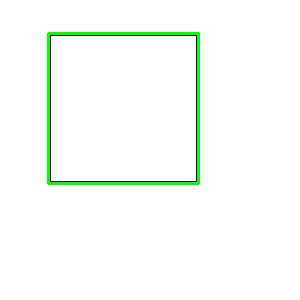line_segment: (47, 32, 200, 185)
